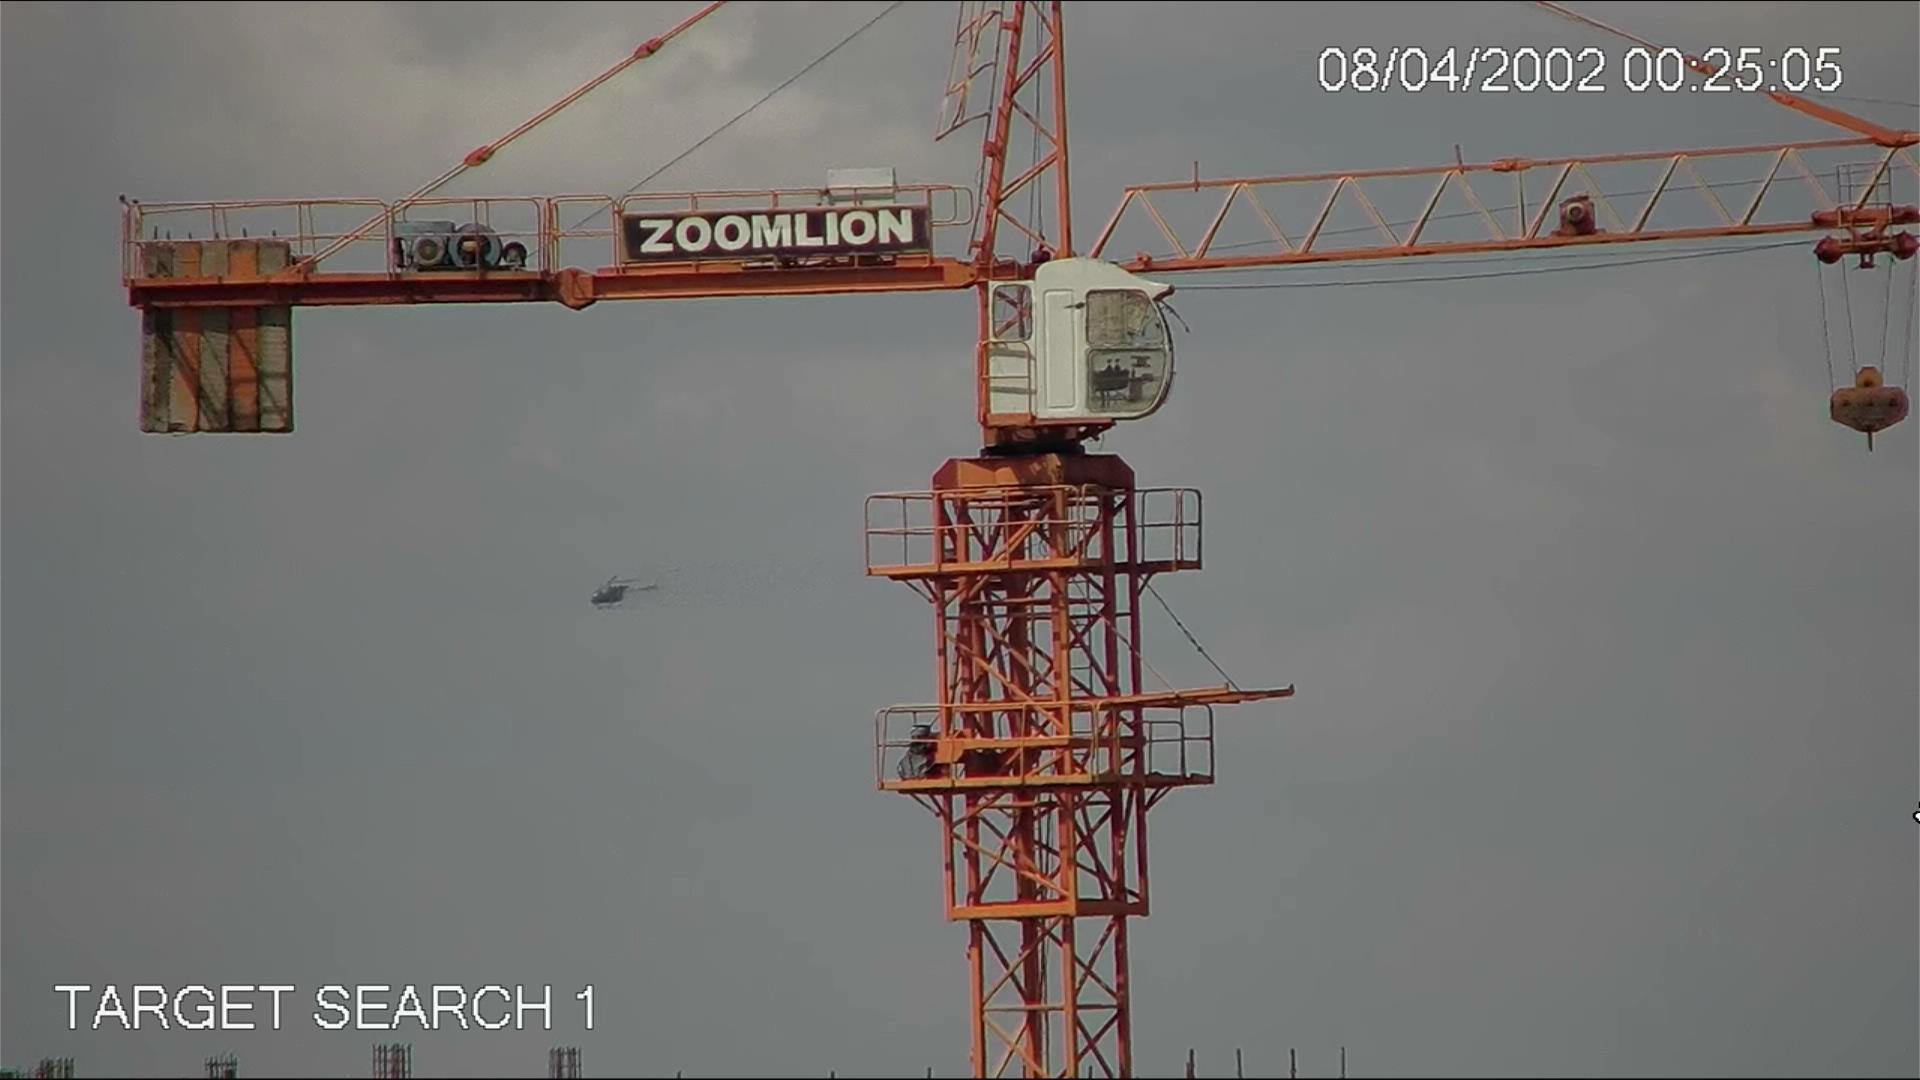SU_30: (585, 570, 659, 607)
